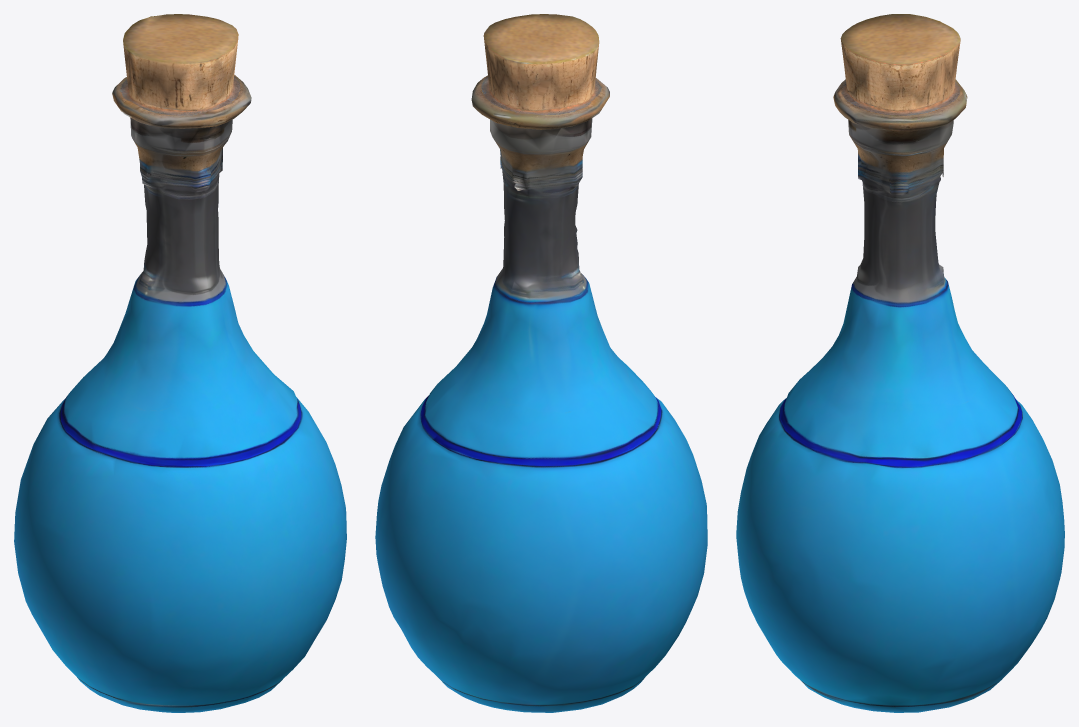
File: _3D_model_of_a_small__0728141736_texture.fbx
The picture shows the model from 3 angles, left to right: view 1: azimuth 30°, elevation 25°; view 2: azimuth 150°, elevation 25°; view 3: azimuth 270°, elevation 25°; orthographic projection.
Parts seen in each view (by area): view 1: input; view 2: input; view 3: input.
Part boxes in pixels (left/top/right/bottom): input: left=14, top=14, right=346, bottom=712; input: left=375, top=14, right=707, bottom=712; input: left=736, top=14, right=1064, bottom=712.
Bounding box in the file's own units: 93.75 × 200 × 93.5.
Materials: 1 (1 with a texture image).
